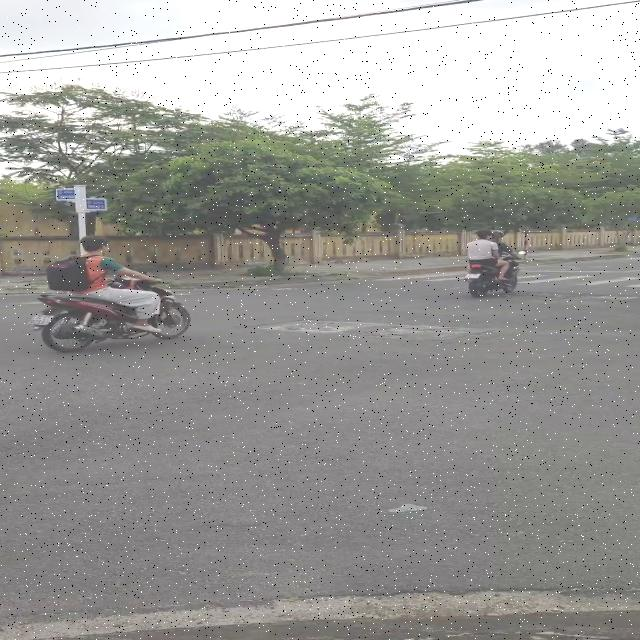no_helmet: (80, 236, 109, 249)
